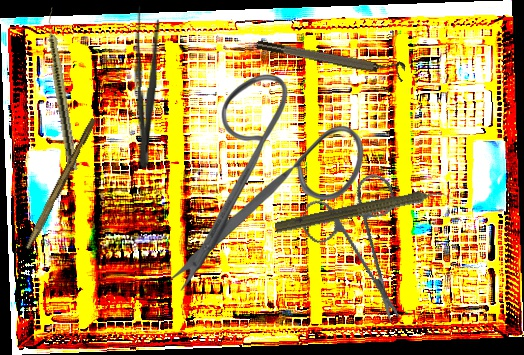Dressing Forceps: (131, 6, 161, 169)
Fixation Ring: (255, 31, 407, 83)
Handpiece: (273, 181, 456, 241), (42, 7, 80, 171)
Iris Scissors: (167, 74, 364, 295), (277, 155, 446, 325)
Scalpel Handle: (24, 116, 98, 252)
